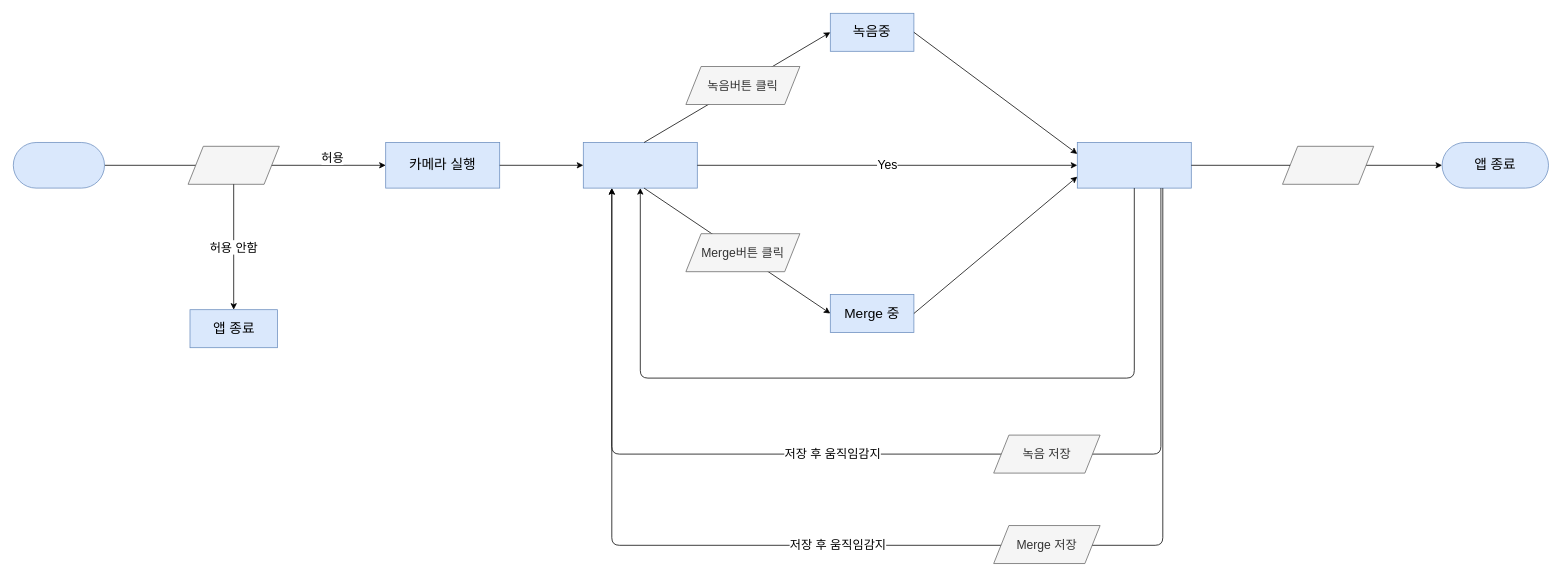
Some shapes in this 1562 by 577 pixel diagram are drawn without their labels. Here are the shapes that lost their labels. From the top down, the box of each, then its label:
(13, 142, 104, 188): 앱 실행
(187, 146, 279, 184): 카메라 권한
(583, 142, 697, 188): 움직임 감지
(1077, 142, 1191, 188): 소리 출력
(1282, 146, 1374, 184): 종료버튼
